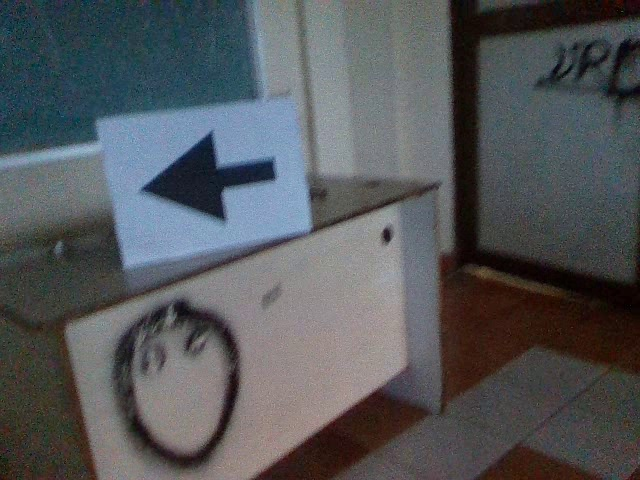Left: (132, 129, 279, 223)
